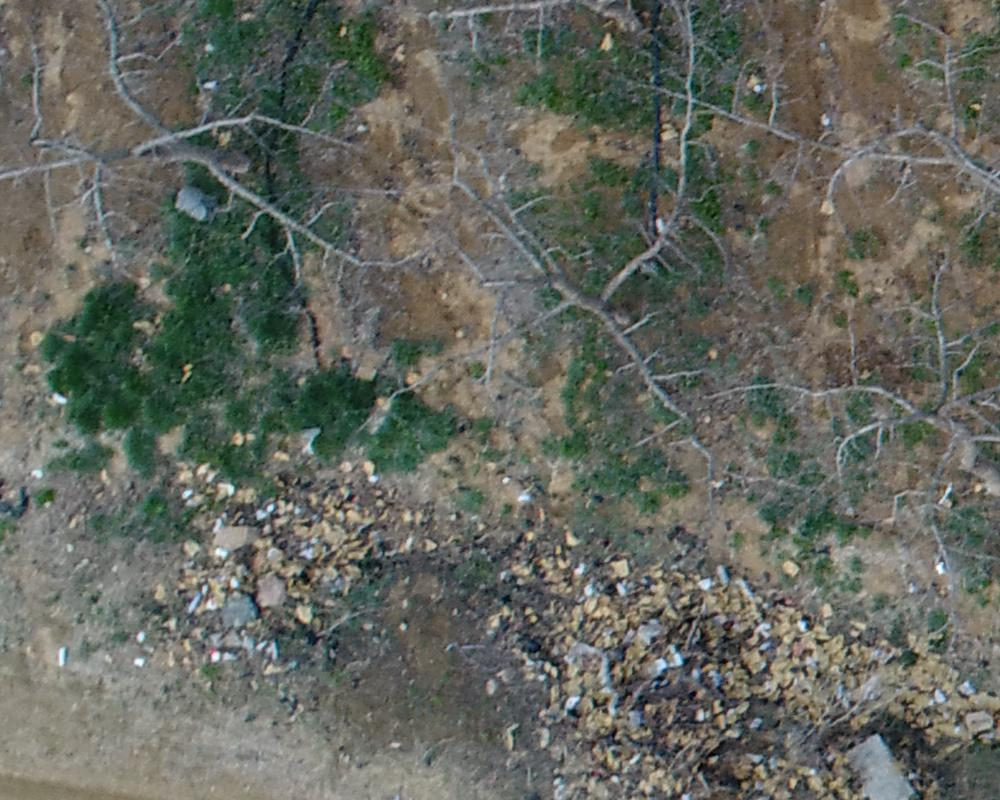apple: (395, 154, 739, 478), (14, 10, 413, 286), (713, 263, 990, 553), (697, 16, 990, 277)
